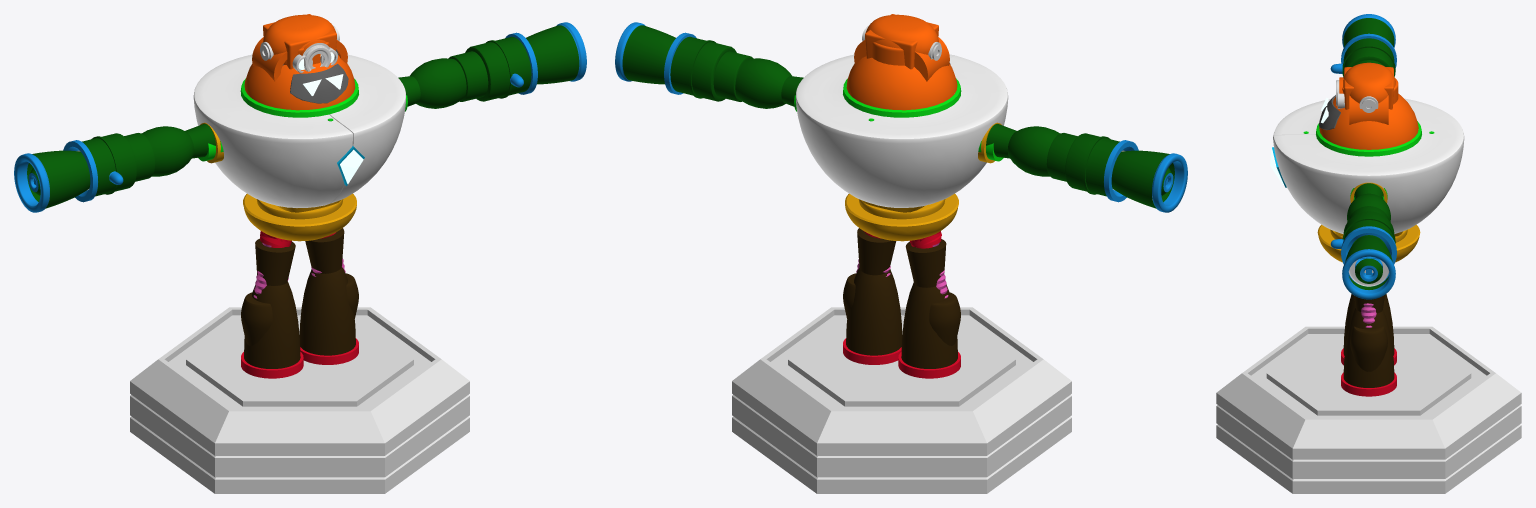
Rendered from compressedv11.glb.
The picture shows the model from 3 angles, left to right: view 1: azimuth 30°, elevation 25°; view 2: azimuth 150°, elevation 25°; view 3: azimuth 270°, elevation 25°; orthographic projection. The views are drawn at different scales.
Visible parts, largest first — view 1: 2-BaseMount, 2-Bodybase, 4-BaseMount, 1-BaseMount, 5-BaseMount, 2-FootR, 1-weaponR, 2-FootL, 1-weaponL, 2-torso, 2-face, 2-WeaponL (+18 smaller); view 2: 2-BaseMount, 2-Bodybase, 5-BaseMount, 1-BaseMount, 2-face, 4-BaseMount, 2-FootR, 1-weaponR, 1-weaponL, 2-FootL, 2-torso, 3-BaseMount (+17 smaller); view 3: 2-BaseMount, 2-Bodybase, 5-BaseMount, 4-BaseMount, 2-face, 1-BaseMount, 2-FootR, 3-BaseMount, 3-Face, 2-WeaponDetailsR, 3-LowerLegR, 1-weaponL (+13 smaller).
Part boxes in pixels (<box>): 2-BaseMount: <box>130,307,469,455</box>; 2-Bodybase: <box>193,54,405,207</box>; 4-BaseMount: <box>130,419,469,493</box>; 1-BaseMount: <box>130,403,469,477</box>; 5-BaseMount: <box>130,394,469,470</box>; 2-FootR: <box>299,267,355,355</box>; 1-weaponR: <box>448,36,531,101</box>; 2-FootL: <box>244,281,300,368</box>; 1-weaponL: <box>82,133,155,196</box>; 2-torso: <box>243,193,356,241</box>; 2-face: <box>244,55,355,110</box>; 2-WeaponL: <box>27,150,90,208</box>; 2-BaseMount: <box>732,307,1071,455</box>; 2-Bodybase: <box>796,54,1008,207</box>; 5-BaseMount: <box>732,394,1071,470</box>; 1-BaseMount: <box>732,403,1071,477</box>; 2-face: <box>846,56,957,110</box>; 4-BaseMount: <box>732,424,1071,493</box>; 2-FootR: <box>846,268,902,355</box>; 1-weaponR: <box>670,36,753,101</box>; 1-weaponL: <box>1046,133,1119,196</box>; 2-FootL: <box>901,282,957,368</box>; 2-torso: <box>845,193,958,241</box>; 3-BaseMount: <box>732,416,1071,489</box>; 2-BaseMount: <box>1216,326,1521,459</box>; 2-Bodybase: <box>1273,98,1464,234</box>; 5-BaseMount: <box>1216,405,1521,472</box>; 4-BaseMount: <box>1216,427,1521,493</box>; 2-face: <box>1319,93,1418,149</box>; 1-BaseMount: <box>1216,413,1521,478</box>; 2-FootR: <box>1343,308,1394,387</box>; 3-BaseMount: <box>1216,424,1521,491</box>; 3-Face: <box>1343,62,1395,103</box>; 2-WeaponDetailsR: <box>1342,249,1395,299</box>; 3-LowerLegR: <box>1350,326,1387,371</box>; 1-weaponL: <box>1342,38,1395,76</box>.
Bounding box in the file's own units: 6.64 × 4.77 × 3.6.
